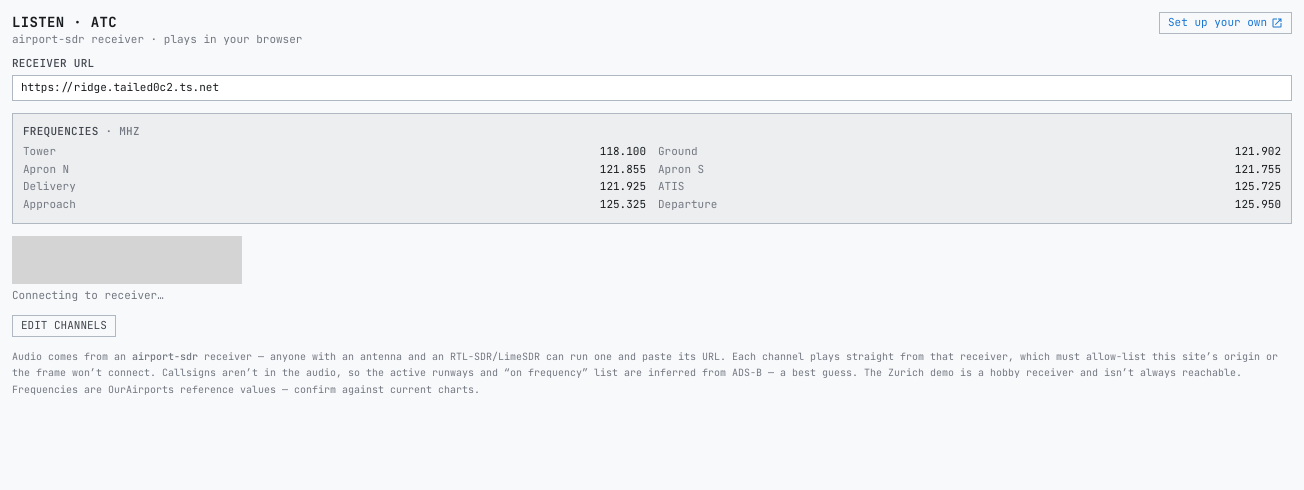
Test: AtcPanel › edits channel names behind the editor and adds a new position
Later steps or results of the test are not shown.
Click the button "Edit channels" at (64, 326), box [12,315,116,337]
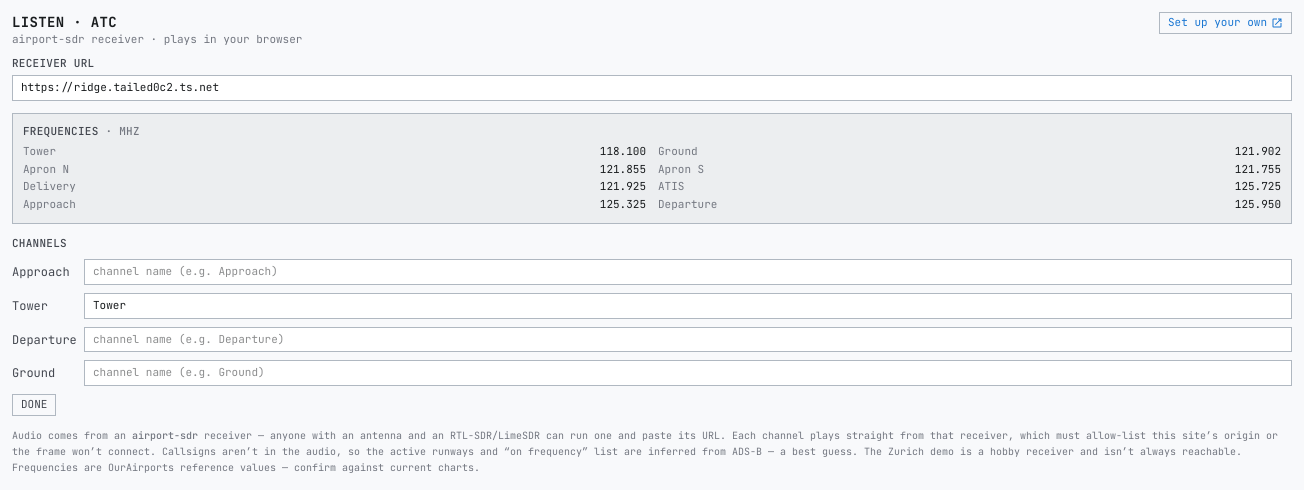
Check: the field named "Tower channel name" holds "Tower", box [84,293,1292,319]
Check: the field named "Ground channel name" is empty, box [84,360,1292,386]
